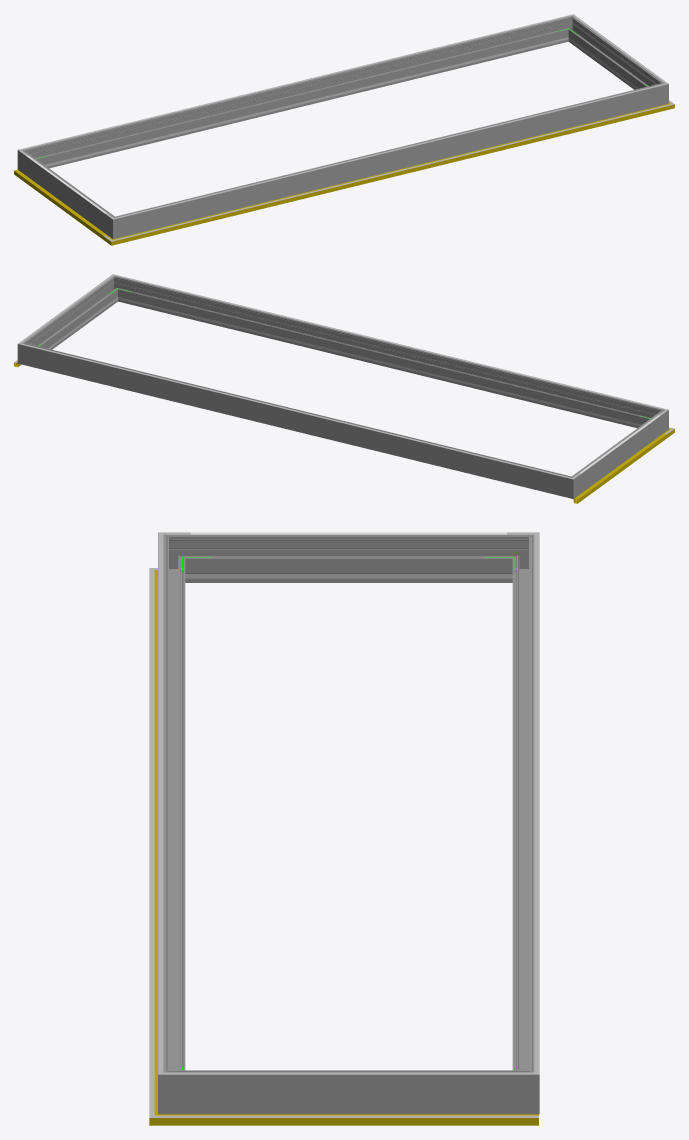
3 views of the same model, one above another, from view 1: azimuth 30°, elevation 25°; view 2: azimuth 150°, elevation 25°; view 3: azimuth 270°, elevation 25° (orthographic). The views are drawn at different scales.
Parts seen in each view (by area): view 1: 3DGeom-277, 3DGeom-299, 3DGeom-11, 3DGeom-298, 3DGeom-269, 3DGeom-245, 3DGeom-20, 3DGeom-317, 3DGeom-305, 3DGeom-6, 3DGeom-271; view 2: 3DGeom-299, 3DGeom-277, 3DGeom-298, 3DGeom-269, 3DGeom-240, 3DGeom-305, 3DGeom-317, 3DGeom-6, 3DGeom-279; view 3: 3DGeom-269, 3DGeom-298, 3DGeom-299, 3DGeom-277, 3DGeom-16, 3DGeom-20, 3DGeom-305, 3DGeom-317, 3DGeom-11, 3DGeom-291, 3DGeom-285, 3DGeom-233 (+5 smaller).
Part boxes in pixels (x1,y1,x2,y2): 3DGeom-277: (33, 18, 566, 168); 3DGeom-299: (125, 85, 654, 235); 3DGeom-11: (123, 106, 660, 241); 3DGeom-298: (570, 20, 658, 89); 3DGeom-269: (25, 154, 108, 232); 3DGeom-245: (49, 40, 554, 165); 3DGeom-20: (124, 107, 660, 238); 3DGeom-317: (126, 86, 654, 215); 3DGeom-305: (32, 17, 560, 147); 3DGeom-6: (14, 169, 106, 239); 3DGeom-271: (105, 212, 126, 239); 3DGeom-299: (120, 278, 653, 428); 3DGeom-277: (31, 345, 561, 495); 3DGeom-298: (28, 280, 116, 349); 3DGeom-269: (577, 414, 660, 492); 3DGeom-240: (131, 300, 636, 425); 3DGeom-305: (32, 346, 560, 475); 3DGeom-317: (126, 277, 654, 406); 3DGeom-6: (573, 433, 666, 503); 3DGeom-279: (559, 472, 581, 498); 3DGeom-269: (190, 534, 507, 582); 3DGeom-298: (190, 1070, 507, 1114); 3DGeom-299: (158, 546, 185, 1070); 3DGeom-277: (512, 546, 534, 1070); 3DGeom-16: (181, 1114, 538, 1125); 3DGeom-20: (149, 581, 154, 1103); 3DGeom-305: (534, 546, 539, 1060); 3DGeom-317: (158, 546, 163, 1060); 3DGeom-11: (154, 581, 157, 1103); 3DGeom-291: (158, 1061, 190, 1114); 3DGeom-285: (507, 1061, 539, 1114); 3DGeom-233: (216, 574, 481, 578).
Bounding box in the file's own units: 6.1 × 0.2434 × 1.83.
